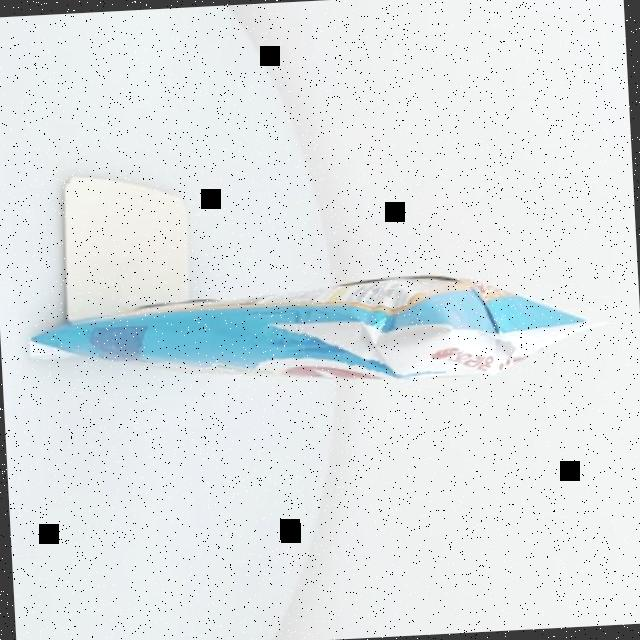snack_bag: (16, 175, 633, 438)
